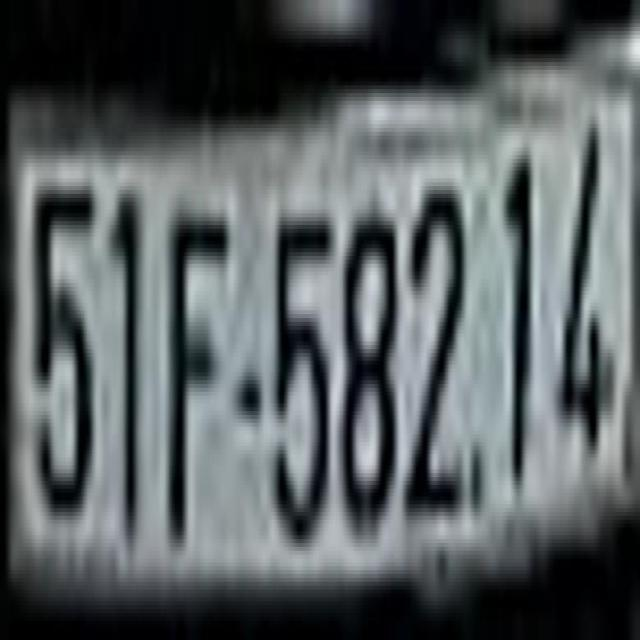1: (499, 128, 535, 496), (110, 173, 142, 537)
2: (404, 173, 466, 522)
4: (557, 99, 614, 491)
5: (32, 163, 96, 520), (274, 192, 332, 549)
8: (340, 194, 397, 539)
F: (165, 192, 230, 549)
